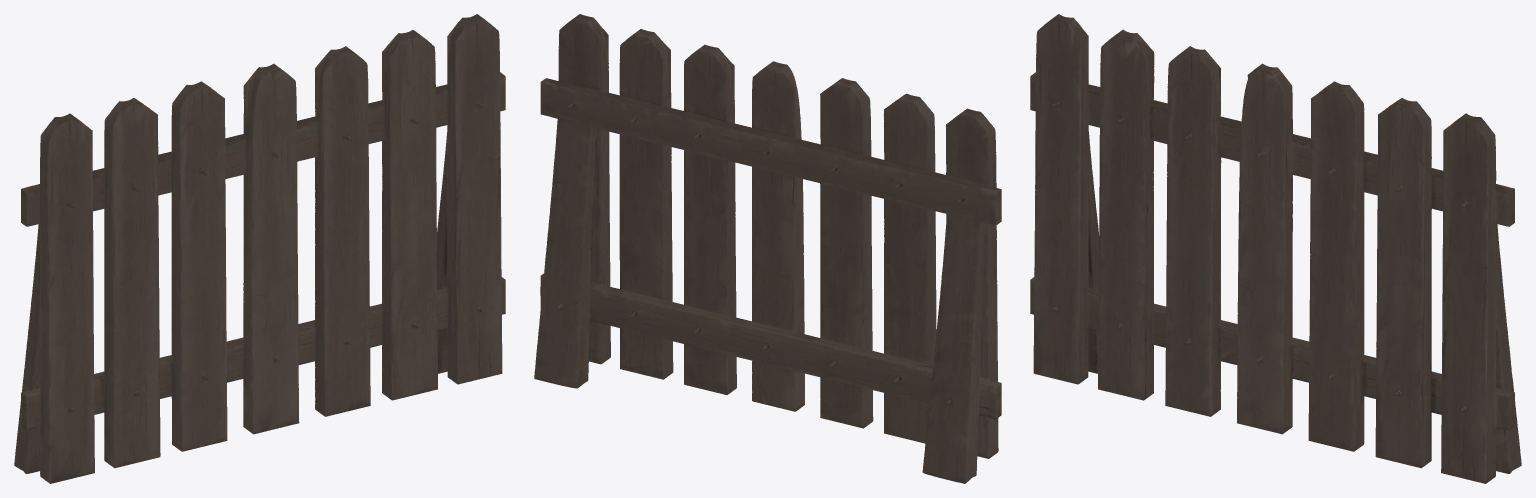
The model's file is wooden-fence.glb.
The picture shows the model from 3 angles, left to right: view 1: azimuth 30°, elevation 25°; view 2: azimuth 150°, elevation 25°; view 3: azimuth 330°, elevation 25°; orthographic projection. The views are drawn at different scales.
Bounding box in the file's own units: 1.9 × 1.38 × 0.2638.
1 material, 1 textured.
